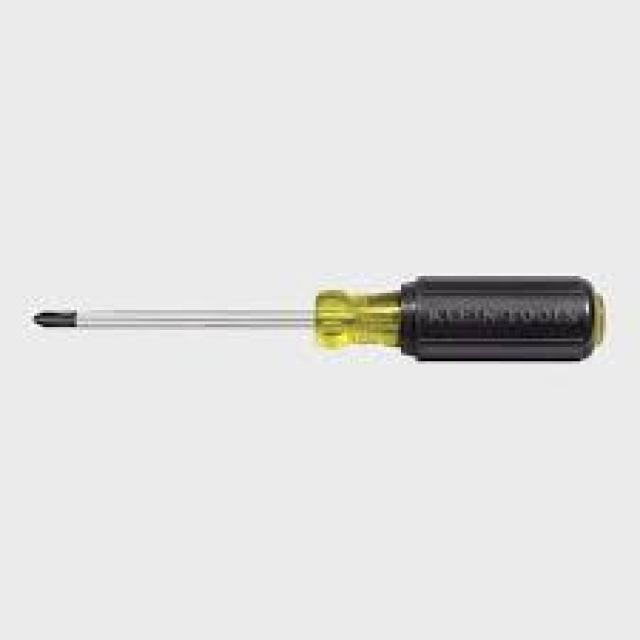Screwdriver: (34, 276, 609, 361)
